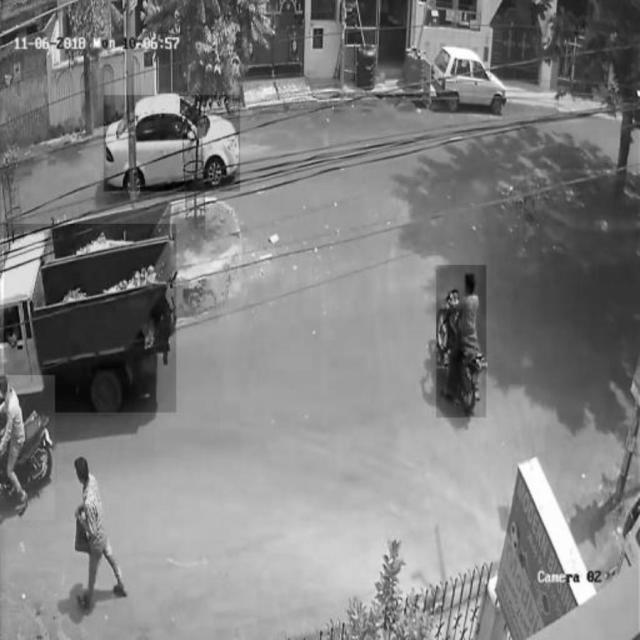person: (67, 454, 124, 612)
vehicle: (5, 224, 177, 412), (104, 95, 240, 191), (0, 375, 55, 519), (437, 266, 487, 418), (432, 39, 502, 116)
